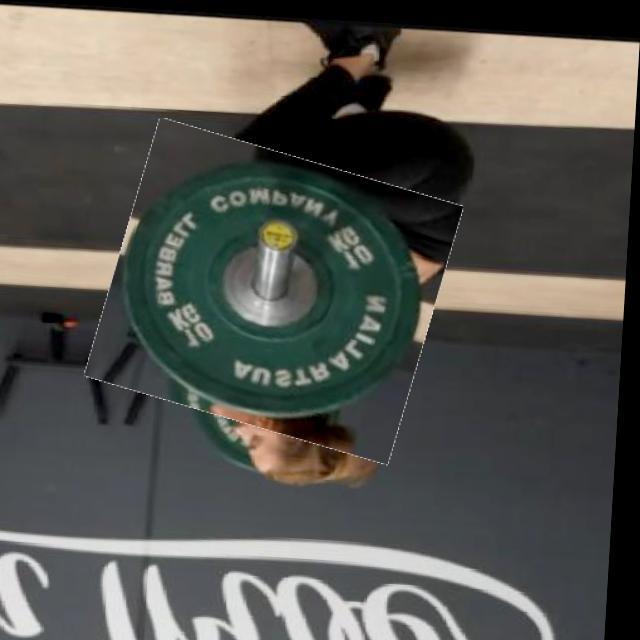barbell: (100, 131, 456, 447)
